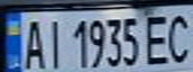1: (66, 15, 87, 69)
3: (103, 15, 124, 67)
5: (121, 12, 145, 68)
9: (84, 16, 106, 69)
A: (18, 15, 48, 71)
C: (163, 9, 193, 64)
E: (142, 10, 175, 66)
I: (42, 15, 66, 70)
